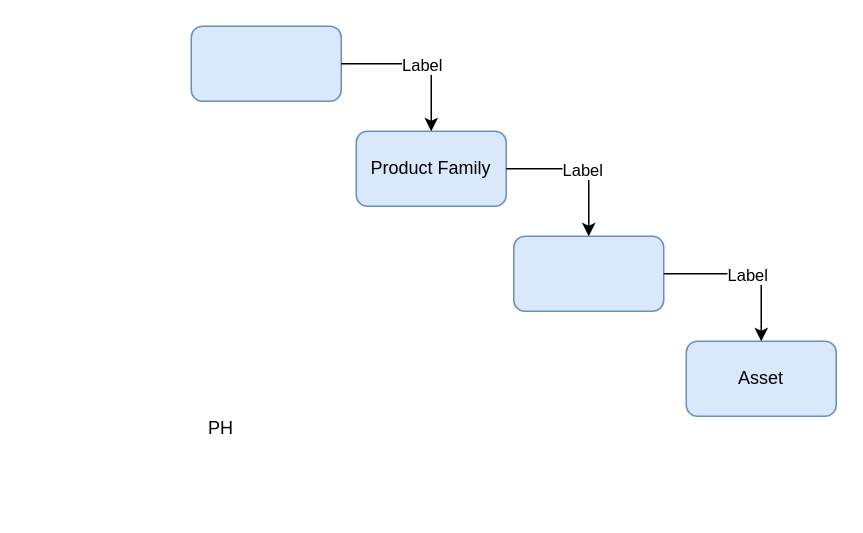
Image size: 863x533. Some labels were removed from this diagram. The centre of each missing label's shape, as x and y in pixels:
Brand PH =: (x=265, y=63)
Product: (x=588, y=273)
